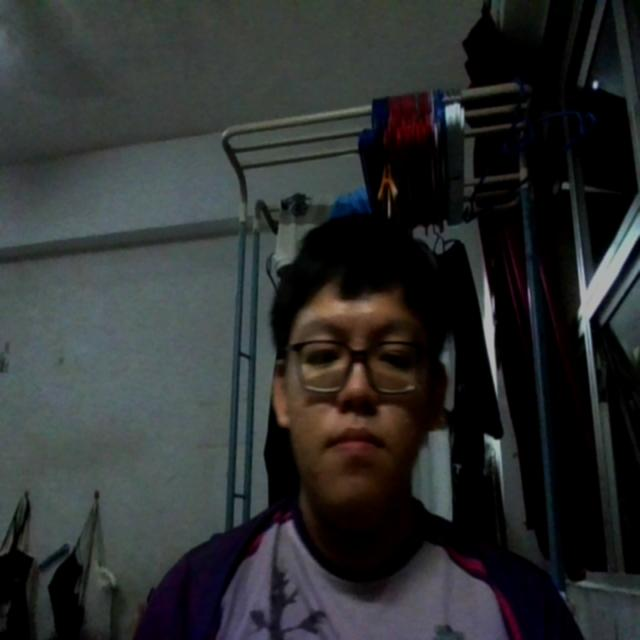person_without_labcoat: (134, 219, 582, 639)
